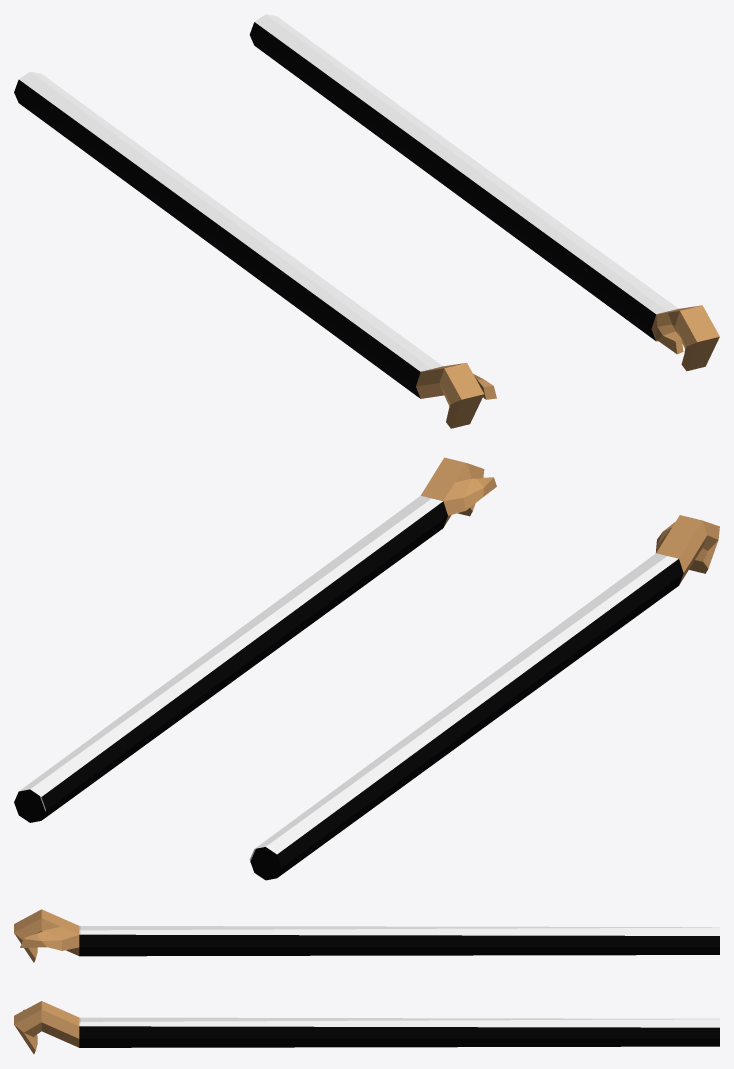
The model's file is rider_hand.fbx.
The picture shows the model from 3 angles, top to bottom: view 1: azimuth 30°, elevation 25°; view 2: azimuth 150°, elevation 25°; view 3: azimuth 270°, elevation 25°; orthographic projection. The views are drawn at different scales.
Visible parts, largest first — view 1: arm.R, arm.L, hand.R, hand.L; view 2: arm.R, arm.L, hand.L, hand.R; view 3: arm.L, arm.R, hand.R, hand.L.
Boxes of the visible parts, x1,y1,x2,y2 form: arm.R: (14, 71, 442, 398); arm.L: (249, 14, 678, 340); hand.R: (416, 363, 496, 428); hand.L: (651, 305, 719, 371); arm.R: (249, 553, 683, 880); arm.L: (14, 495, 447, 822); hand.L: (421, 457, 496, 527); hand.R: (656, 515, 719, 584); arm.L: (79, 1017, 719, 1047); arm.R: (79, 926, 719, 956); hand.R: (14, 909, 79, 962); hand.L: (14, 1001, 79, 1054).
Size of the model in its own units: 108 by 22.16 by 310.
Materials: 4 (4 with a texture image).
